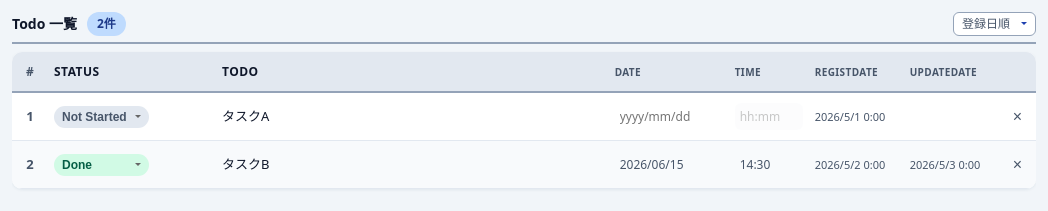
Test: TodoTable › cancels edit on Escape
Click the text "タスクA".
click(246, 116)  # box left=222, top=107, right=269, bottom=125
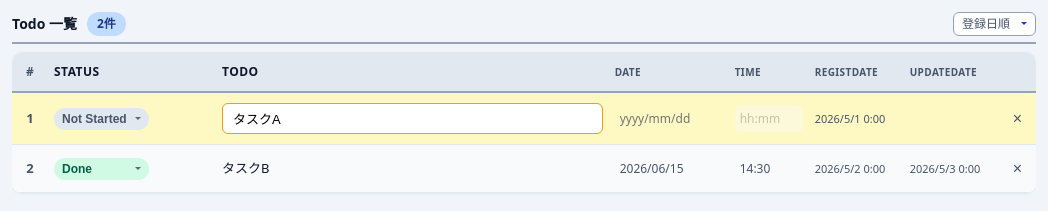
Replace the text in the field showing "タスクA" in the row of "2026/5/1 0:00" with "変更中" at [412, 119], box left=222, top=103, right=603, bottom=134
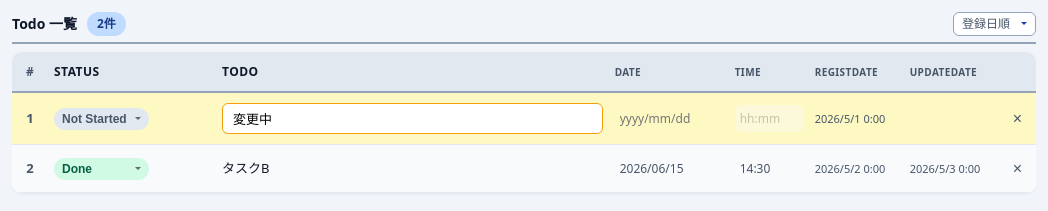
Press Escape
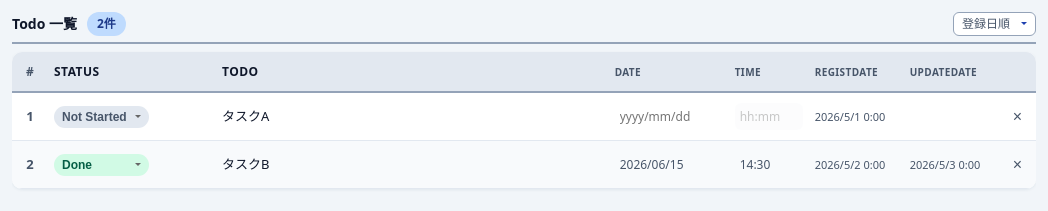
Expected: the field showing "変更中" is not shown
Expected: the text "タスクA" is shown, left=222, top=107, right=269, bottom=125
